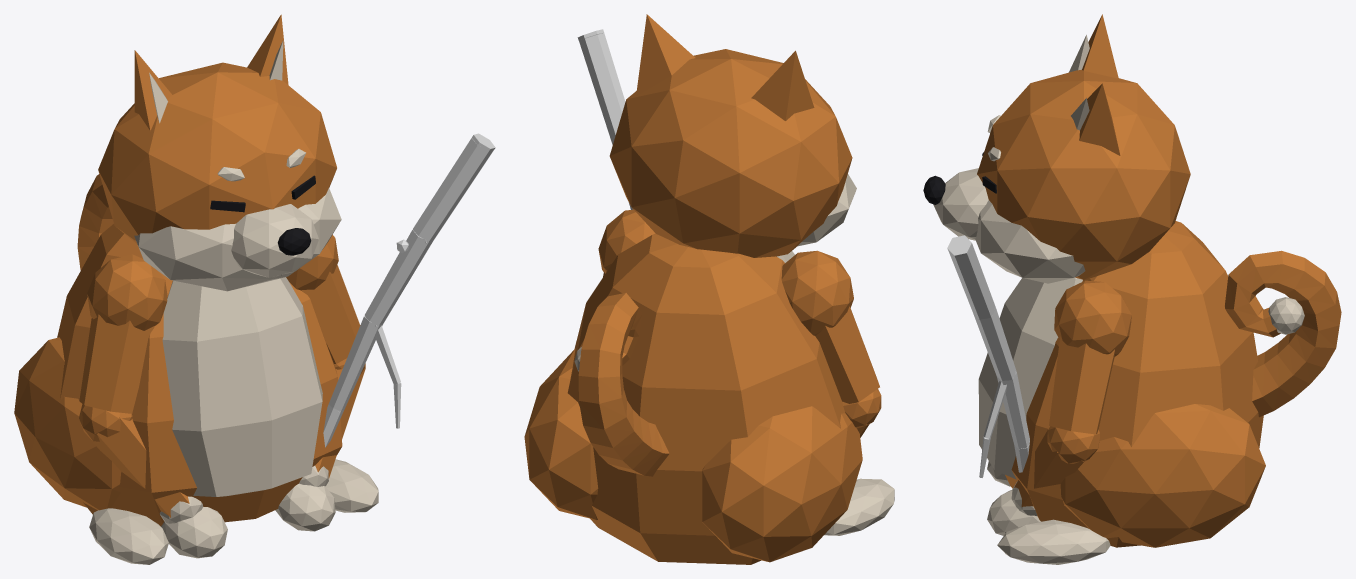
The model's file is Shiba.fbx.
The picture shows the model from 3 angles, left to right: view 1: azimuth 30°, elevation 25°; view 2: azimuth 150°, elevation 25°; view 3: azimuth 270°, elevation 25°; orthographic projection. The views are drawn at different scales.
Visible parts, largest first — view 1: Body, Stick, ThrowArm; view 2: Body, Stick, ThrowArm; view 3: Body, ThrowArm, Stick.
Boxes of the visible parts, bbox=[...] form: Body: bbox=[14, 14, 378, 564]; Stick: bbox=[323, 133, 495, 447]; ThrowArm: bbox=[275, 234, 365, 531]; Body: bbox=[524, 14, 894, 564]; Stick: bbox=[577, 29, 633, 209]; ThrowArm: bbox=[598, 209, 655, 276]; Body: bbox=[923, 14, 1341, 564]; ThrowArm: bbox=[987, 280, 1131, 535]; Stick: bbox=[947, 235, 1029, 477].
Bounding box in the file's own units: 1.01 × 1.29 × 1.06.
